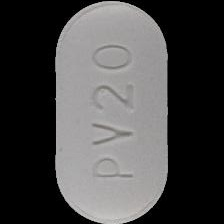16252-527: (0, 0, 224, 224)
